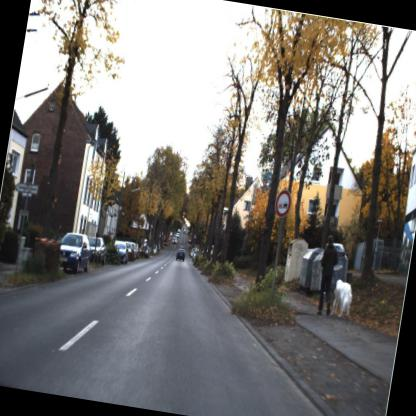prohibitory: (269, 182, 298, 223)
